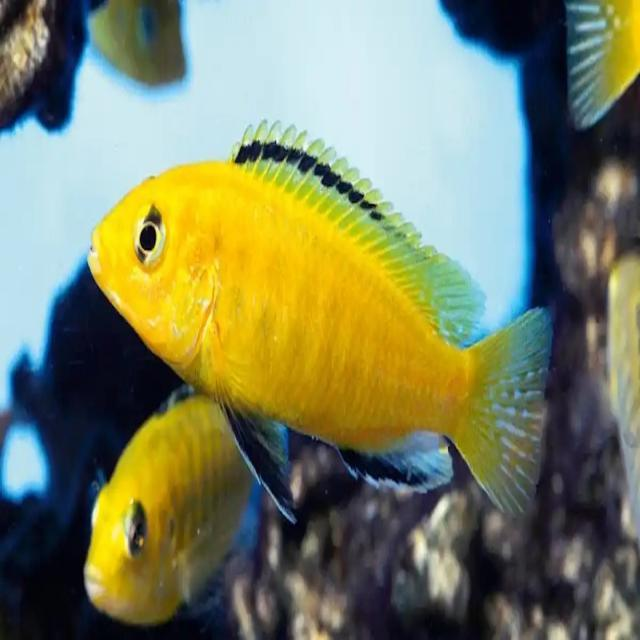YellowCichlid: (78, 110, 584, 470), (64, 396, 256, 638)
